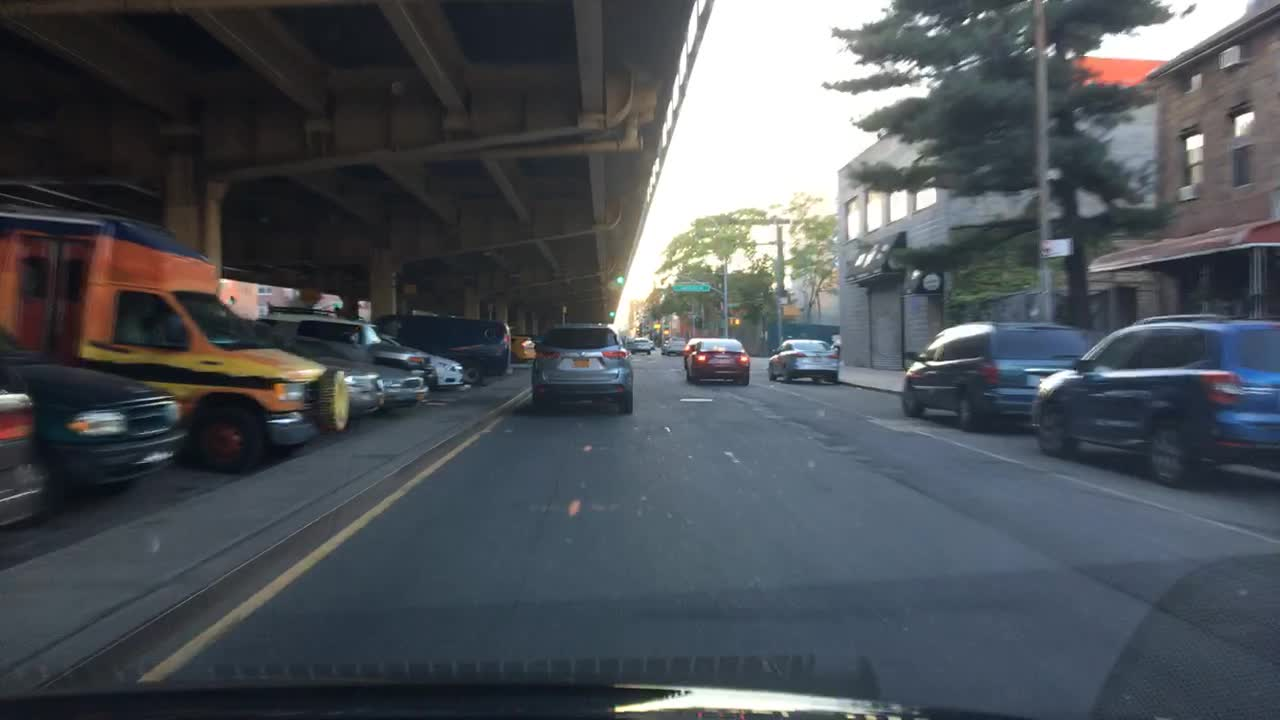car: (0, 180, 346, 477), (1025, 309, 1278, 486), (0, 349, 188, 506), (897, 318, 1105, 443), (254, 304, 468, 394), (251, 321, 382, 414), (372, 310, 517, 385), (0, 341, 52, 544), (287, 336, 425, 407), (526, 326, 633, 417), (765, 336, 837, 385), (681, 335, 748, 382), (509, 335, 539, 364), (676, 335, 705, 364), (659, 333, 689, 358), (823, 333, 848, 362), (624, 333, 652, 353)
traffic light: (777, 303, 799, 318), (724, 313, 742, 326), (612, 269, 627, 284), (607, 306, 620, 319)
traffic sign: (1036, 237, 1070, 257), (675, 283, 708, 292)
